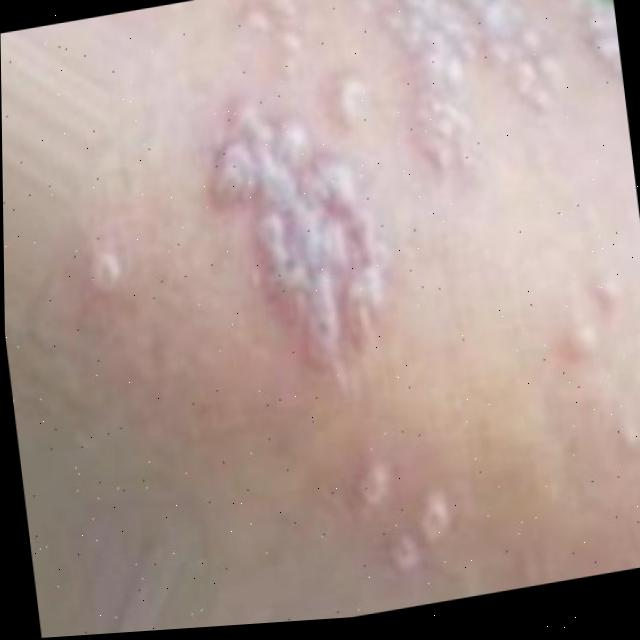Shingles: (178, 0, 640, 381)
